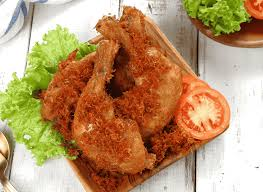Ayam goreng: (95, 16, 184, 138), (71, 39, 148, 175)
